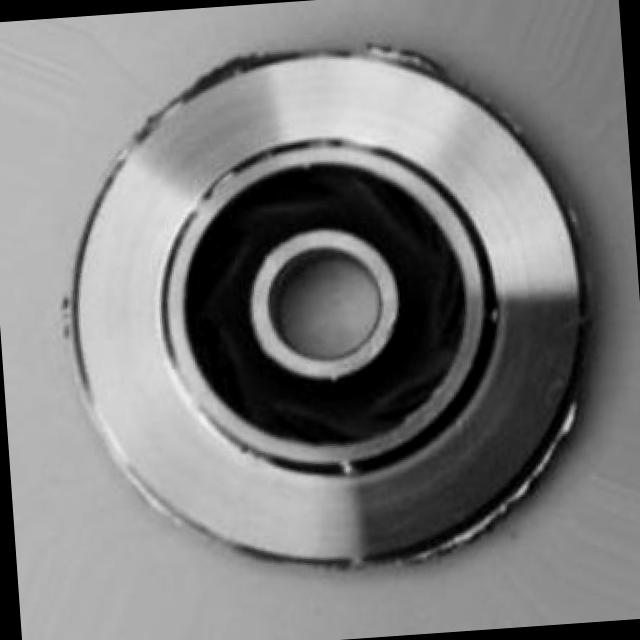Defect: (364, 27, 434, 80)
